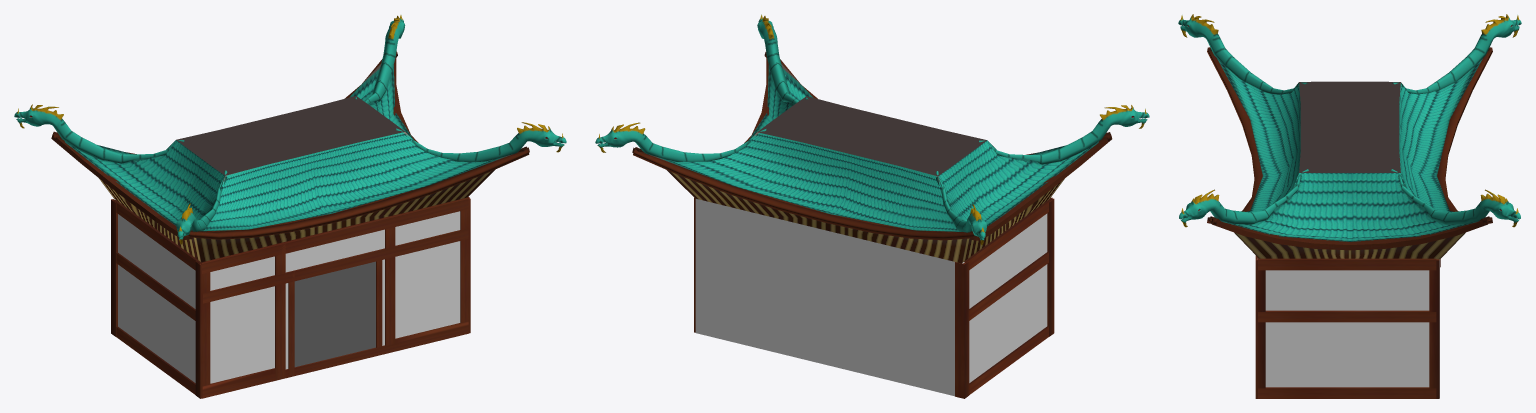
The model's file is House02.fbx.
3 views of the same model, side by side, from view 1: azimuth 30°, elevation 25°; view 2: azimuth 150°, elevation 25°; view 3: azimuth 270°, elevation 25° (orthographic). The views are drawn at different scales.
Parts seen in each view (by area): view 1: polySurface224, polySurface209; view 2: polySurface224, polySurface209; view 3: polySurface209, polySurface224.
Part boxes in pixels (<box>): polySurface224: <box>111,197,470,398</box>; polySurface209: <box>14,15,566,262</box>; polySurface224: <box>694,197,1054,398</box>; polySurface209: <box>595,14,1149,263</box>; polySurface209: <box>1178,14,1521,259</box>; polySurface224: <box>1255,255,1440,398</box>.
Size of the model in its own units: 8.8 by 4.72 by 6.51.
